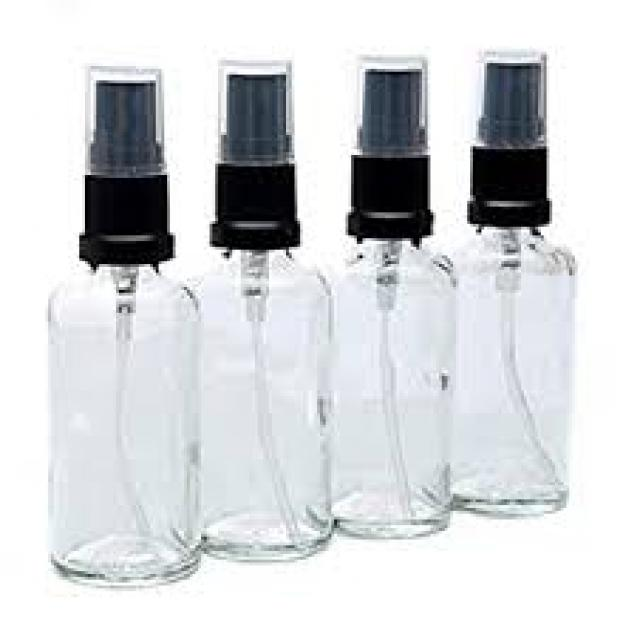Glass-Non-Biodegradable but Recyclable-: (44, 65, 206, 589)
